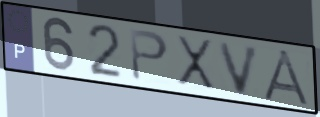2: (85, 22, 124, 80)
6: (41, 15, 77, 72)
A: (260, 48, 315, 109)
P: (128, 27, 171, 84)
V: (216, 40, 264, 99)
X: (175, 33, 218, 95)
